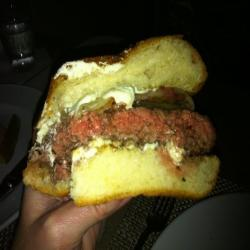burger: (25, 44, 231, 205)
